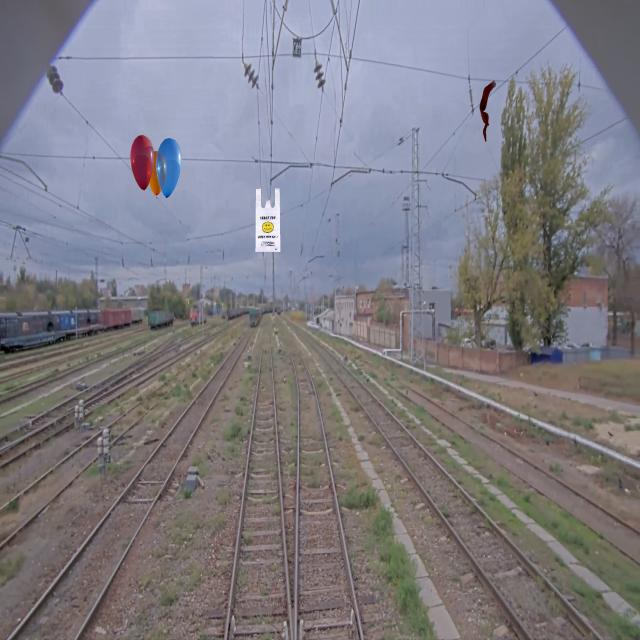balloon: (130, 134, 182, 198)
floating object: (479, 77, 496, 142)
plastic bag: (255, 188, 281, 252)
